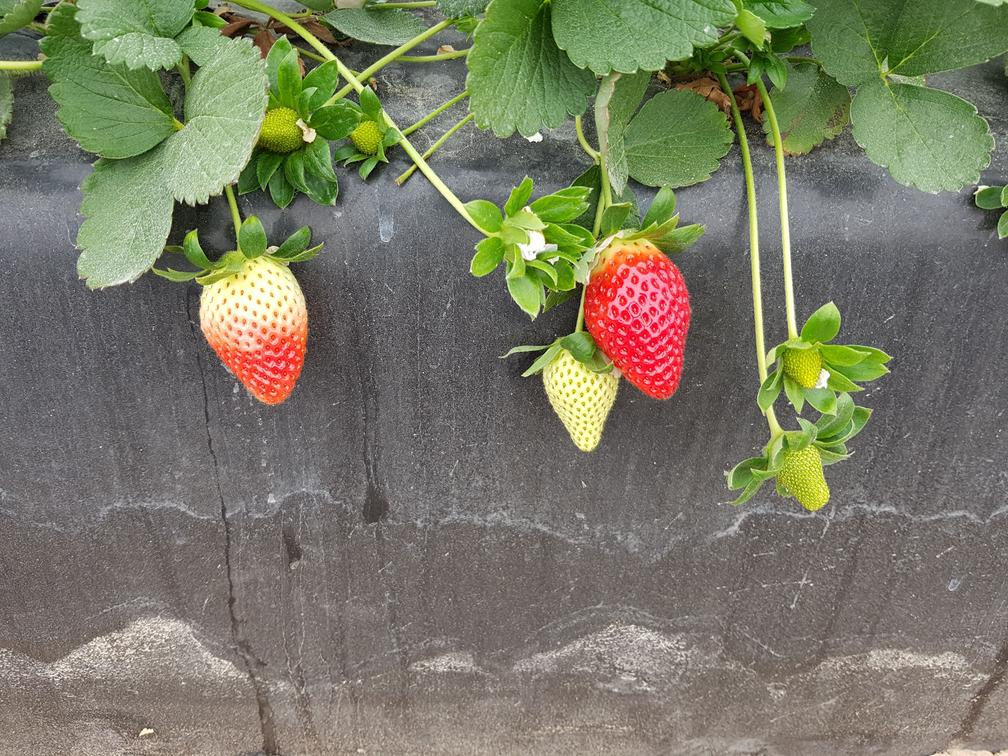Ripe: (191, 269, 324, 411), (586, 248, 700, 396)
Unripe: (536, 345, 615, 456), (769, 445, 839, 516), (258, 104, 312, 154), (786, 341, 828, 394)
